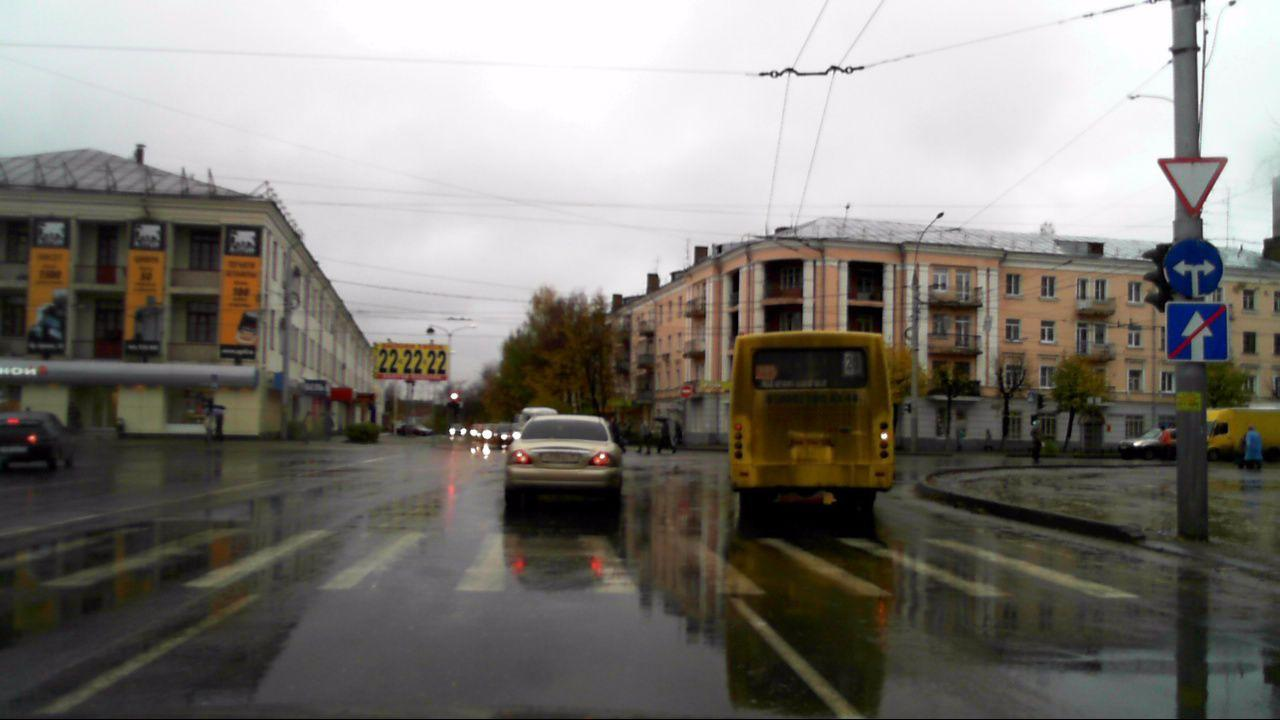2_4: (1158, 155, 1227, 214)
4_1_6: (1164, 239, 1227, 299)
5_6: (1163, 302, 1226, 363)
